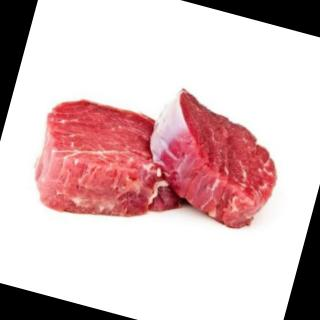Daging Sapi: (23, 90, 200, 242), (135, 86, 292, 238)
